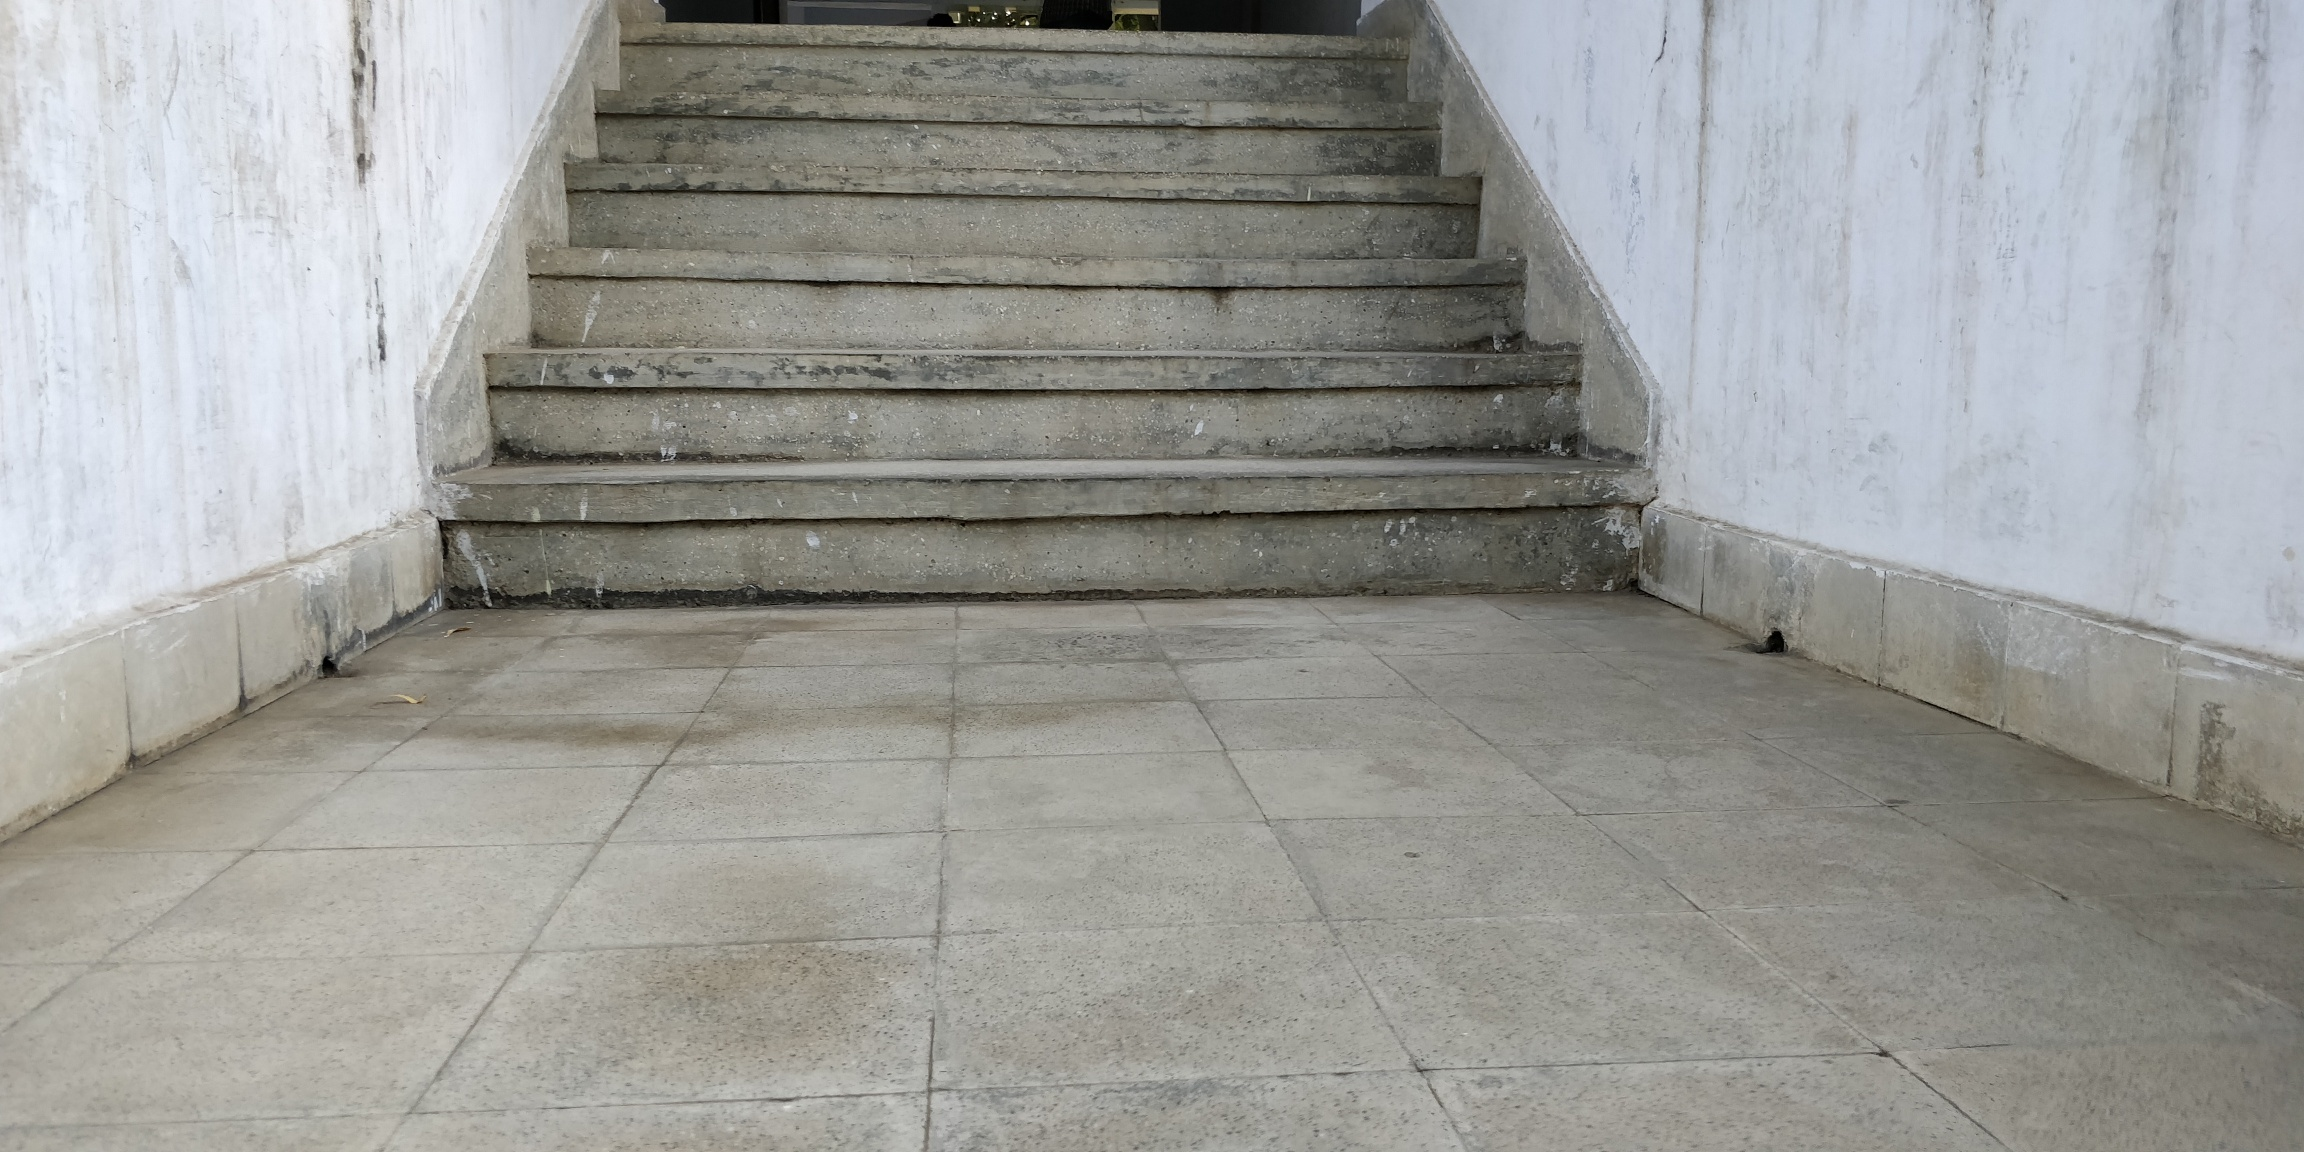stairs_up: (422, 22, 1663, 605)
